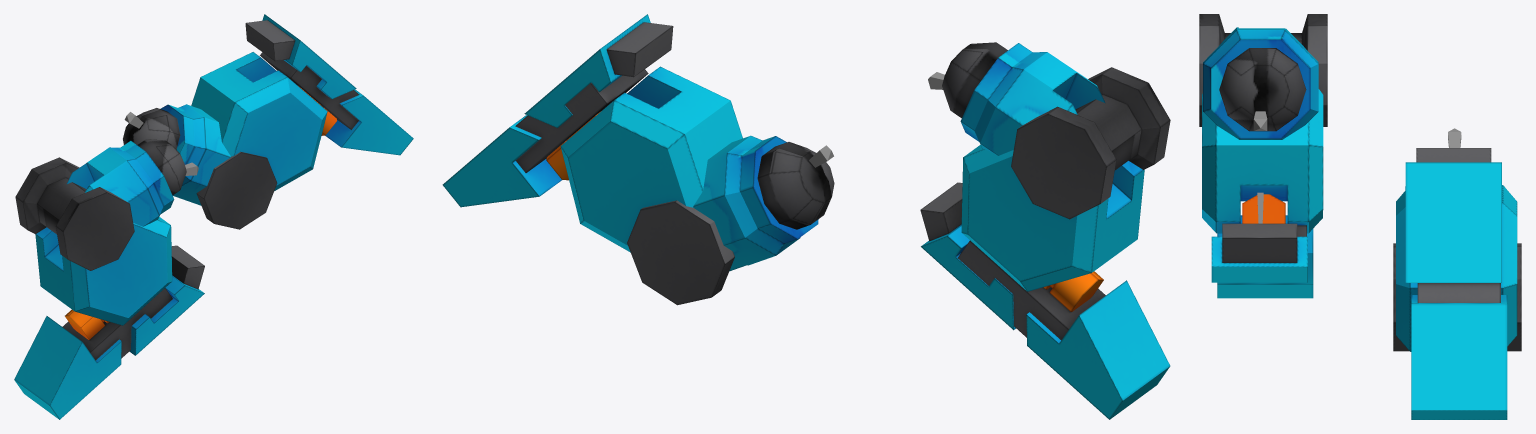
Rendered from Bottom_Running14.obj.
The picture shows the model from 3 angles, left to right: view 1: azimuth 30°, elevation 25°; view 2: azimuth 150°, elevation 25°; view 3: azimuth 270°, elevation 25°; orthographic projection. The views are drawn at different scales.
Parts seen in each view (by area): view 1: Object013, Object010, Object014, Object011, Object012, Object009; view 2: Object013, Object010, Object014, Object011, Object009, Object012; view 3: Object011, Object013, Object012, Object014, Object010.
Boxes of the visible parts, bbox=[...] form: Object013: bbox=[15, 157, 172, 325]; Object010: bbox=[191, 52, 327, 229]; Object014: bbox=[14, 245, 204, 419]; Object011: bbox=[245, 14, 413, 155]; Object012: bbox=[67, 139, 186, 226]; Object009: bbox=[123, 104, 230, 205]; Object013: bbox=[961, 67, 1170, 291]; Object010: bbox=[560, 66, 742, 305]; Object014: bbox=[920, 182, 1170, 419]; Object011: bbox=[442, 14, 673, 207]; Object009: bbox=[693, 135, 834, 271]; Object012: bbox=[942, 42, 1105, 155]; Object011: bbox=[1405, 148, 1507, 419]; Object013: bbox=[1199, 14, 1327, 233]; Object012: bbox=[1203, 27, 1318, 139]; Object014: bbox=[1211, 194, 1313, 298]; Object010: bbox=[1393, 185, 1521, 351].
Bounding box in the file's own units: 199 × 110 × 94.84.
